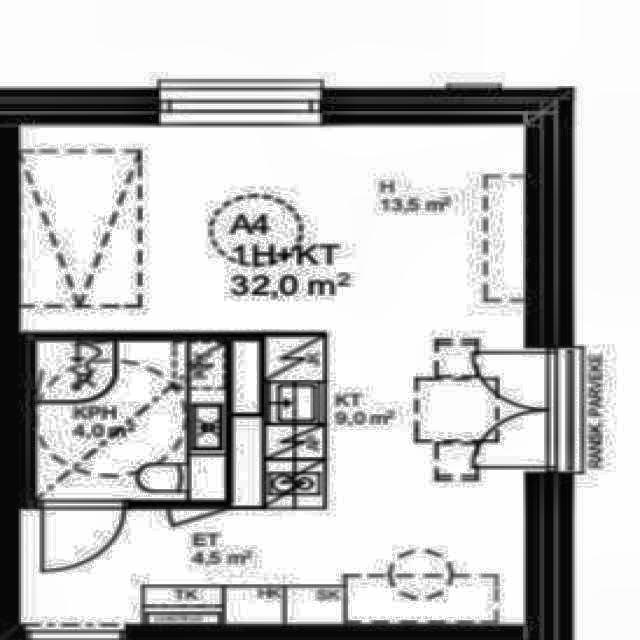room: (34, 341, 227, 501)
